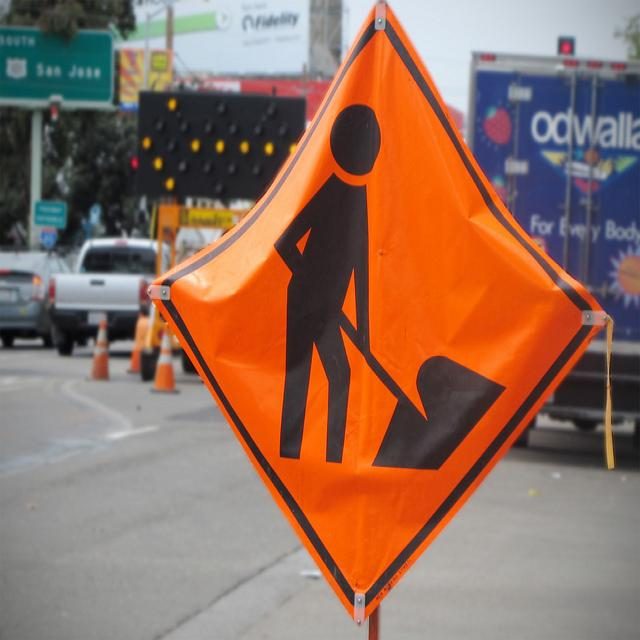Vehicle: (469, 50, 636, 417), (44, 240, 169, 358), (3, 250, 70, 351)
